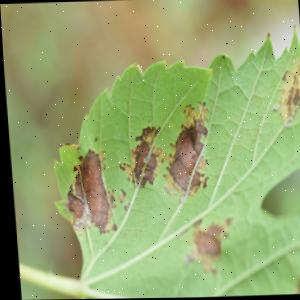Folha: (39, 23, 300, 300)
Fungo: (53, 99, 213, 234), (158, 100, 210, 196), (57, 147, 112, 234), (176, 215, 232, 275), (253, 159, 300, 219), (266, 55, 300, 127), (57, 154, 87, 231), (125, 123, 161, 187), (178, 100, 207, 130), (129, 139, 147, 179), (60, 189, 81, 218), (115, 161, 130, 181), (288, 273, 300, 293), (70, 171, 79, 197), (103, 187, 112, 207), (115, 187, 122, 202), (119, 201, 126, 210)
